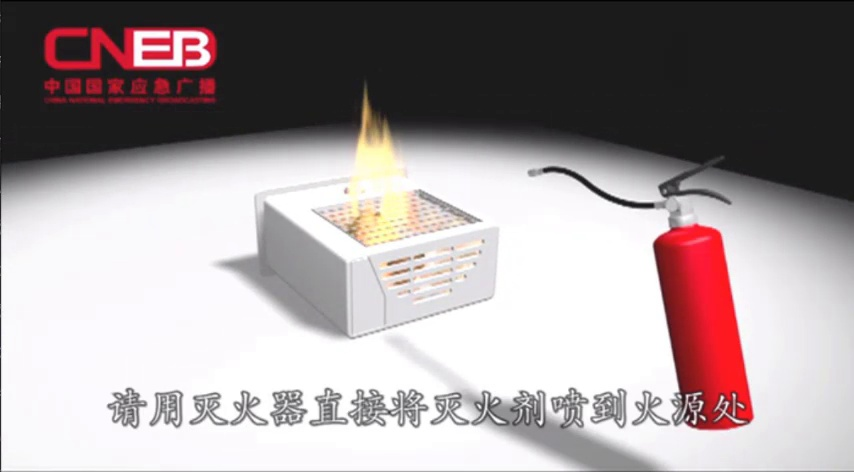fire: (335, 83, 423, 244)
